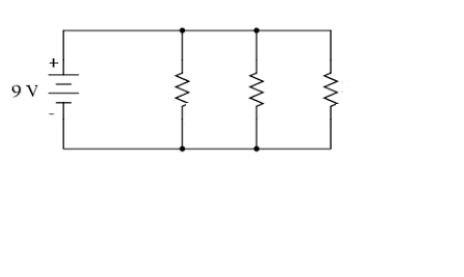resistor: (229, 55, 276, 131), (310, 56, 354, 131), (166, 50, 197, 125)
